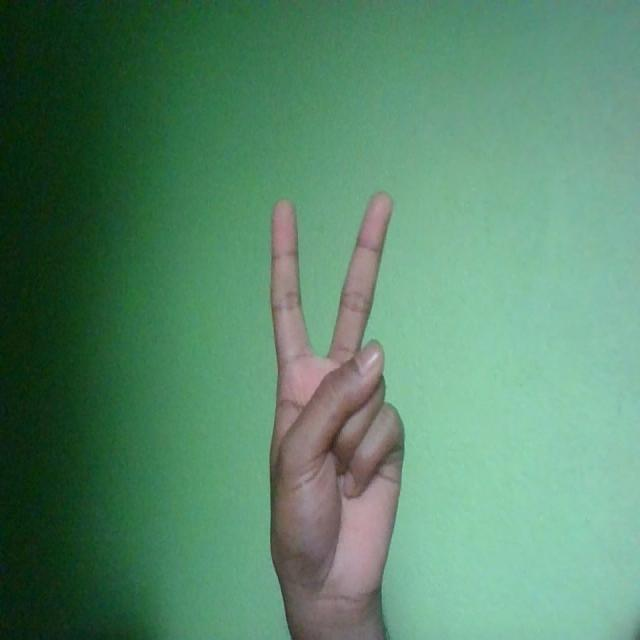Fist: (268, 189, 404, 615)
